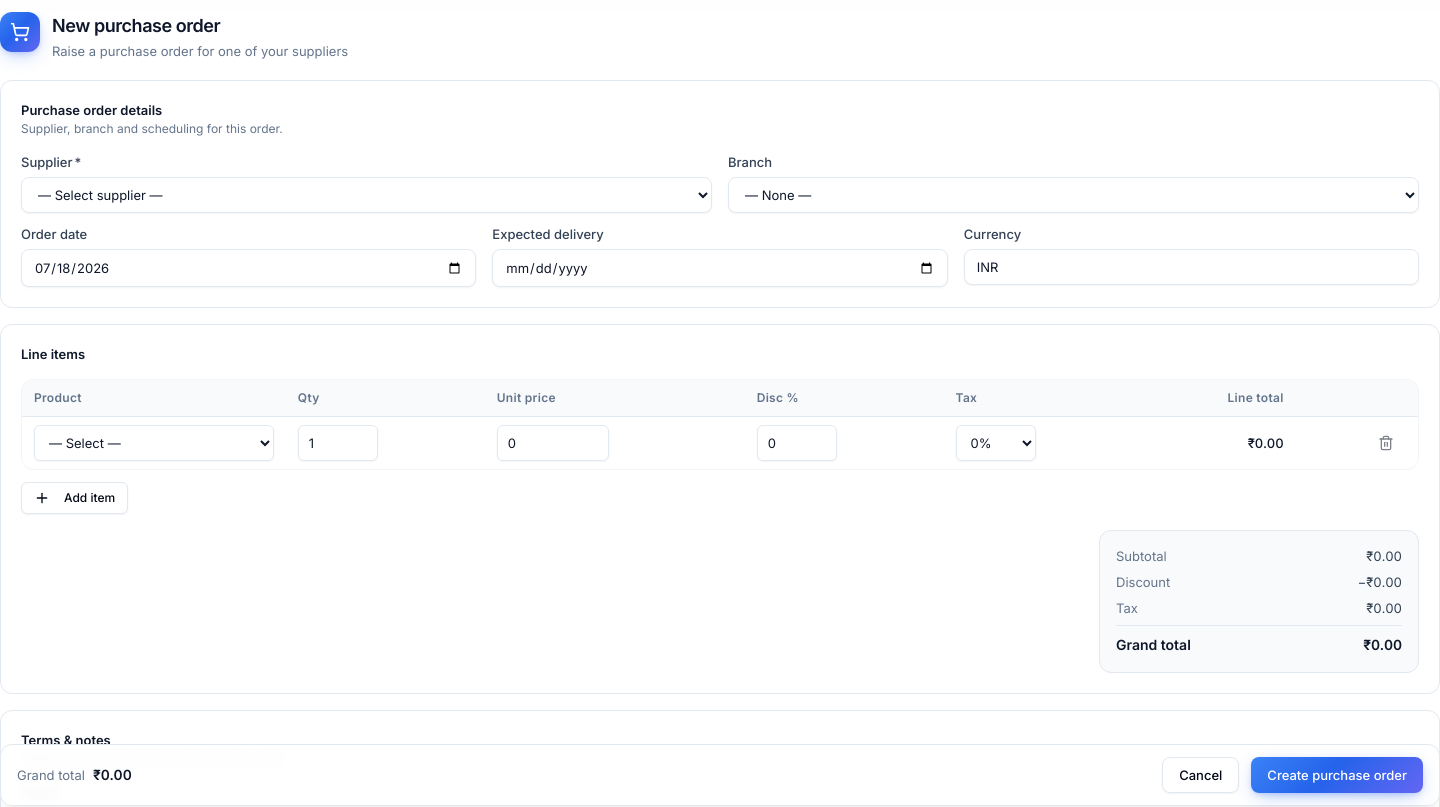
Test case: PurchaseOrderForm › pre-fills price/tax and updates the grand total when a product is chosen
Select "Widget" in the dropdown named "Product for line 1" at (154,442), box x1=34 y1=424 x2=274 y2=460
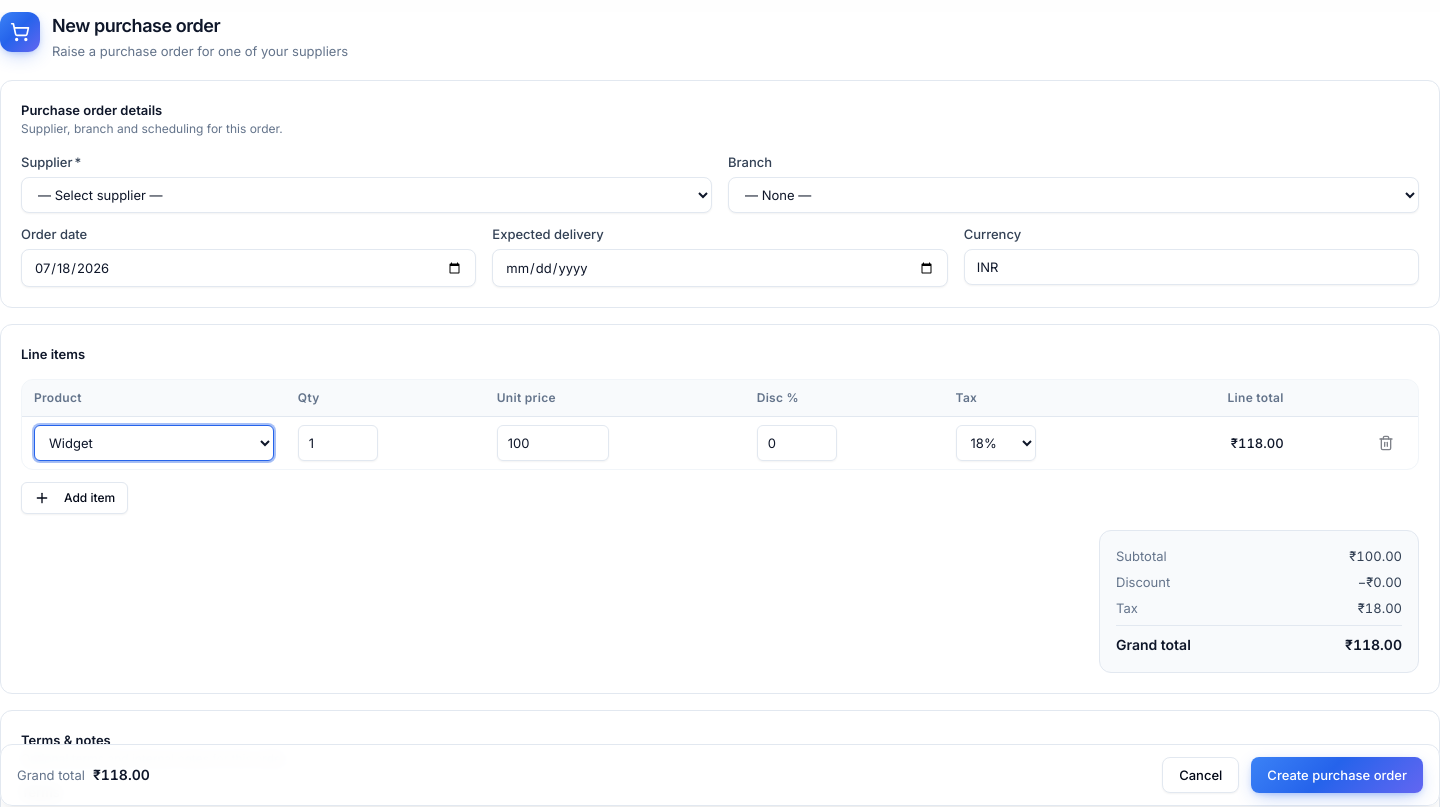
expect the number field named "Unit price for line 1" holds "100": met, box x1=497 y1=424 x2=609 y2=460
expect the text "₹118.00" is shown: met, box x1=1142 y1=416 x2=1296 y2=468
Replace the text in the number field named "Quantity for line 1" with "2" at (338,442), box x1=298 y1=424 x2=378 y2=460
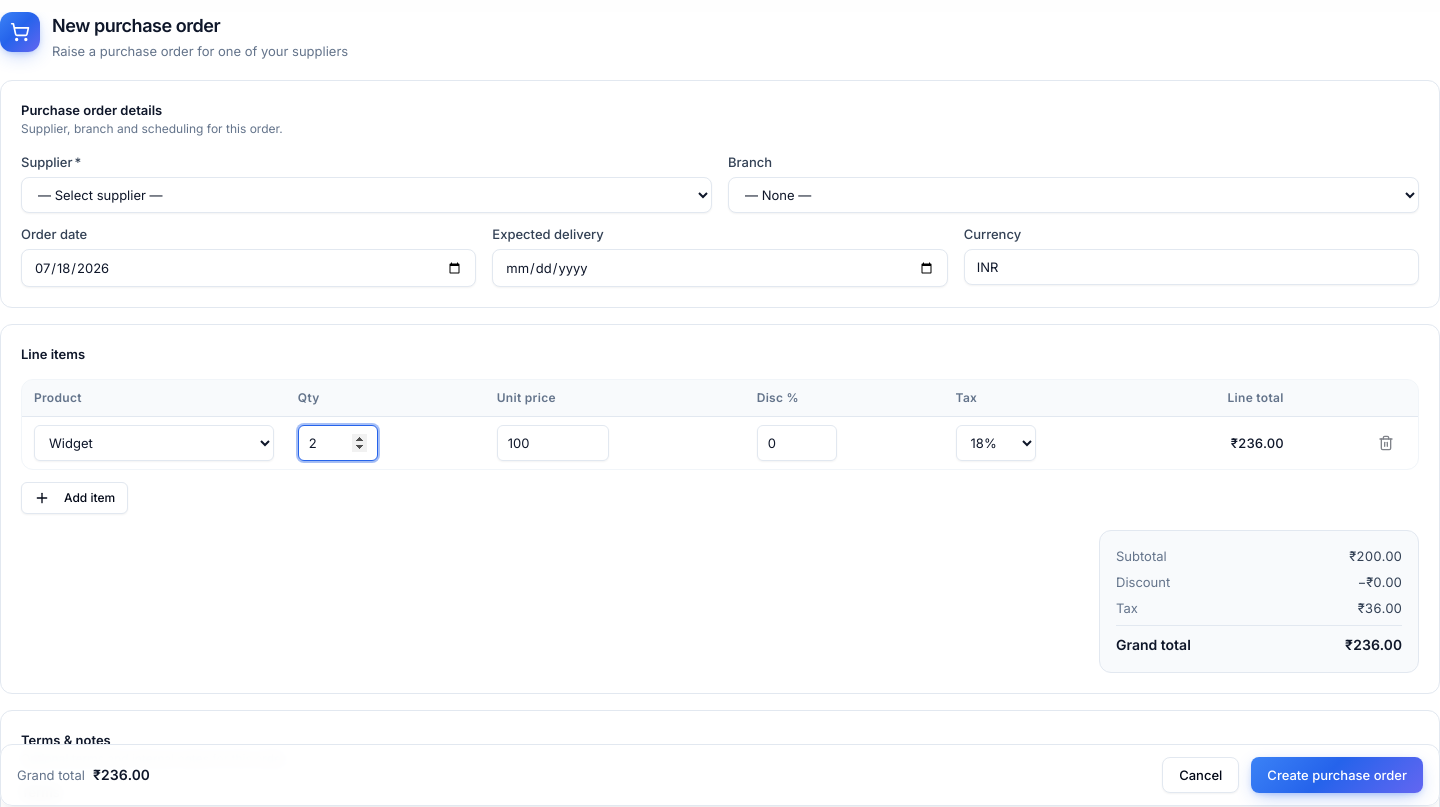
expect the text "₹236.00" is shown: met, box x1=1142 y1=416 x2=1296 y2=468
